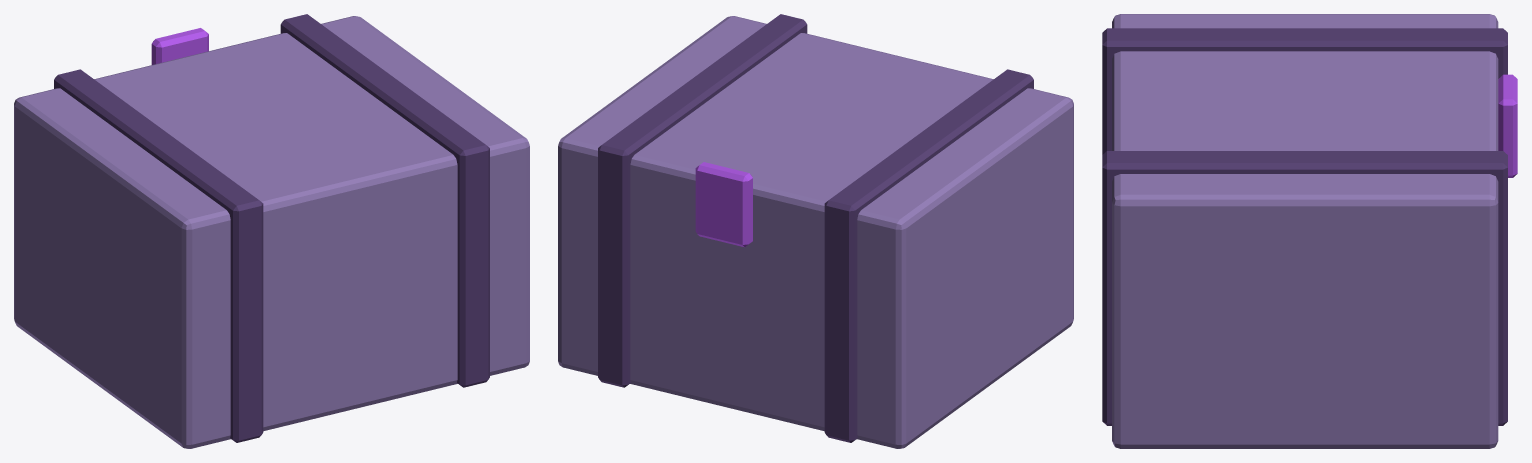
The model's file is corrupt_mimic_chest.glb.
The picture shows the model from 3 angles, left to right: view 1: azimuth 30°, elevation 25°; view 2: azimuth 150°, elevation 25°; view 3: azimuth 270°, elevation 25°; orthographic projection. The views are drawn at different scales.
Parts seen in each view (by area): view 1: corrupt_mimic_chest; view 2: corrupt_mimic_chest; view 3: corrupt_mimic_chest.
Part boxes in pixels (bbox=[...]): corrupt_mimic_chest: bbox=[14, 14, 529, 448]; corrupt_mimic_chest: bbox=[558, 14, 1073, 448]; corrupt_mimic_chest: bbox=[1102, 14, 1517, 448].
Size of the model in its own units: 0.92 by 0.62 by 0.86.
